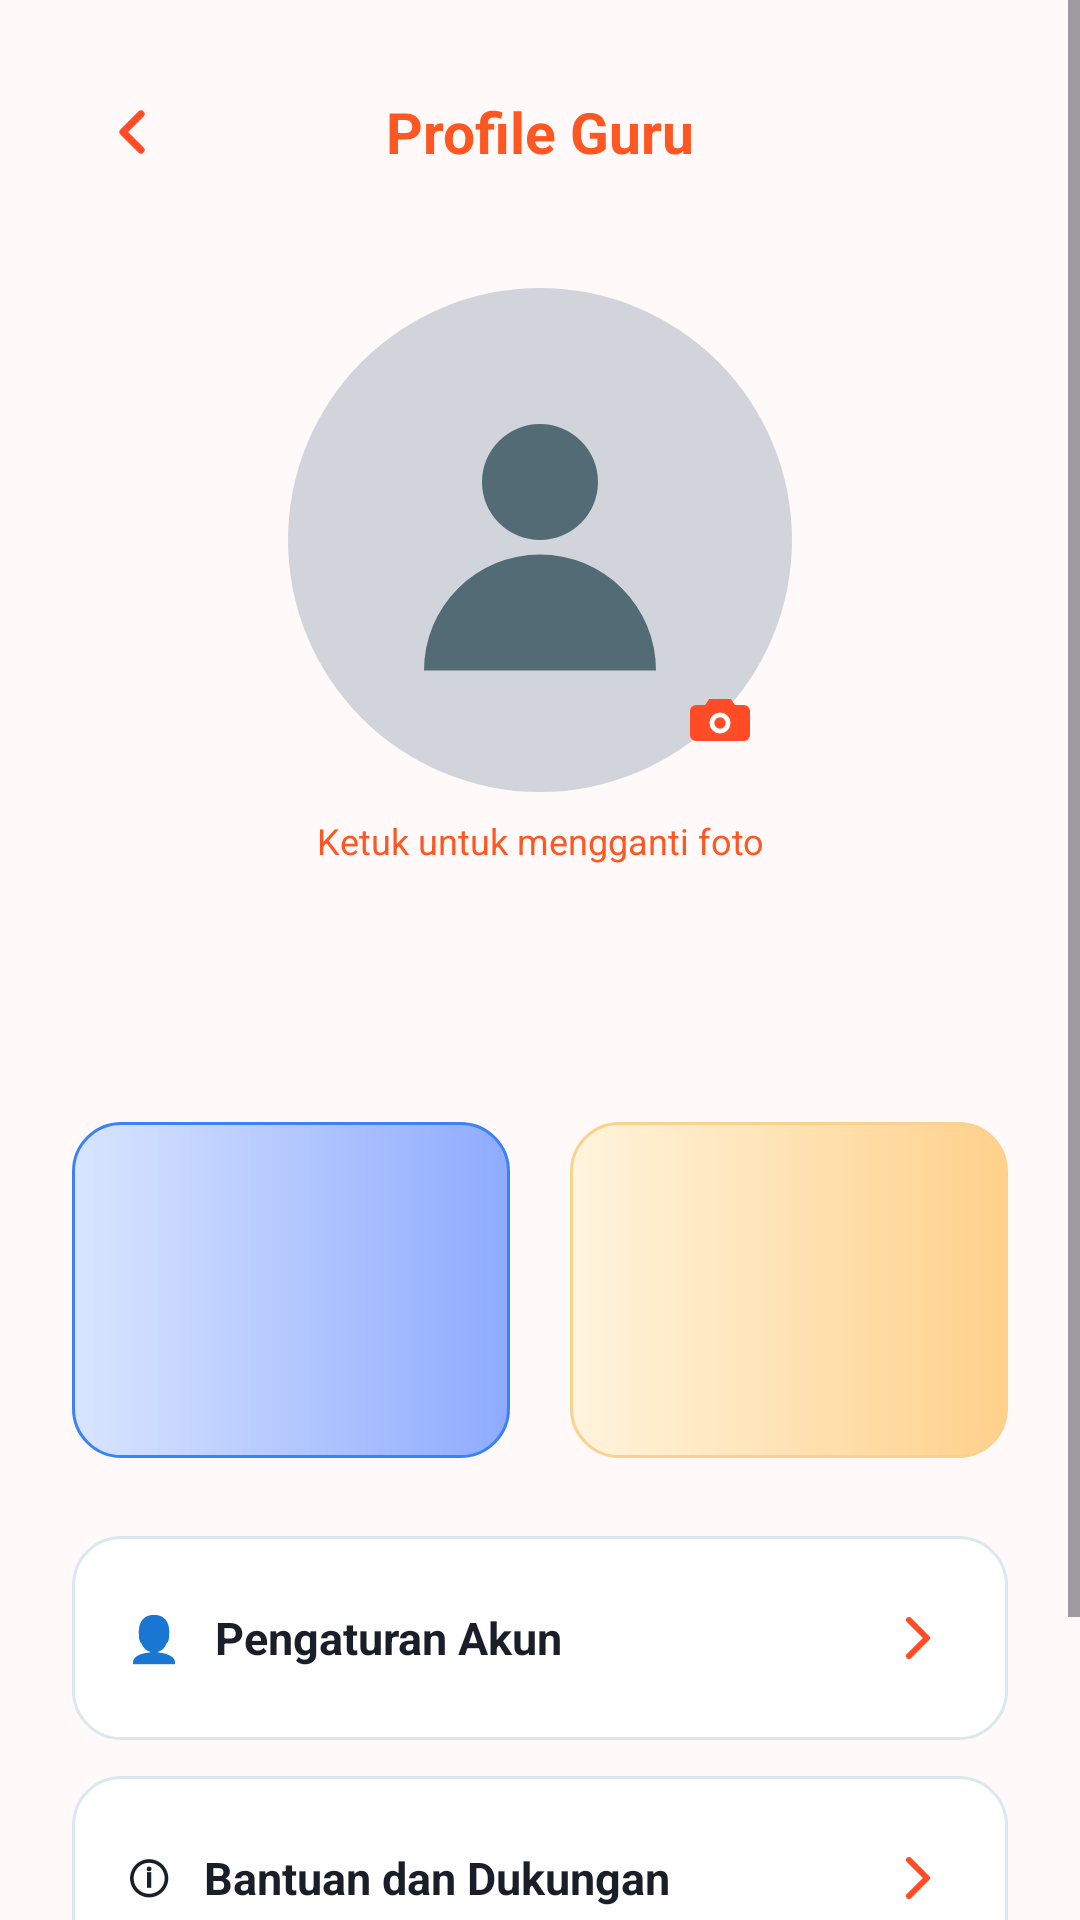

Point at icon controls on the screen. Image size 1080*1920, points as (x,y).
Kembali: (132,132)
